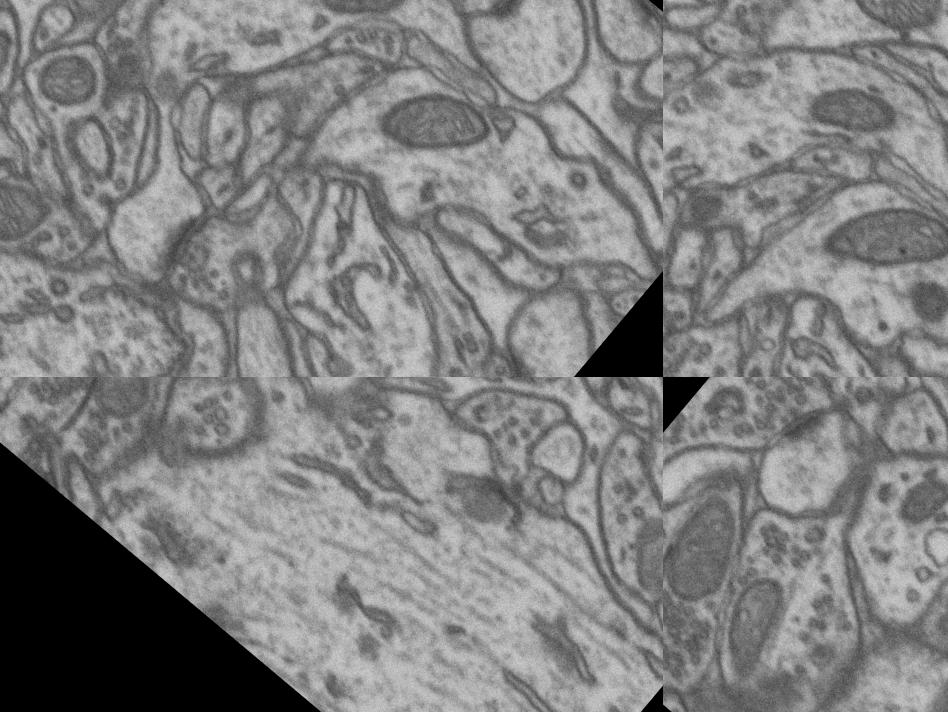mitochondria: (663, 557, 842, 712), (807, 161, 948, 323), (361, 52, 505, 195), (663, 462, 775, 607), (796, 56, 914, 170), (131, 377, 245, 494), (14, 26, 116, 127), (62, 377, 202, 448), (785, 655, 930, 712), (818, 0, 948, 57), (0, 155, 62, 268), (870, 477, 948, 561), (606, 518, 663, 627), (307, 0, 424, 51), (663, 377, 720, 471), (0, 1, 34, 95)
